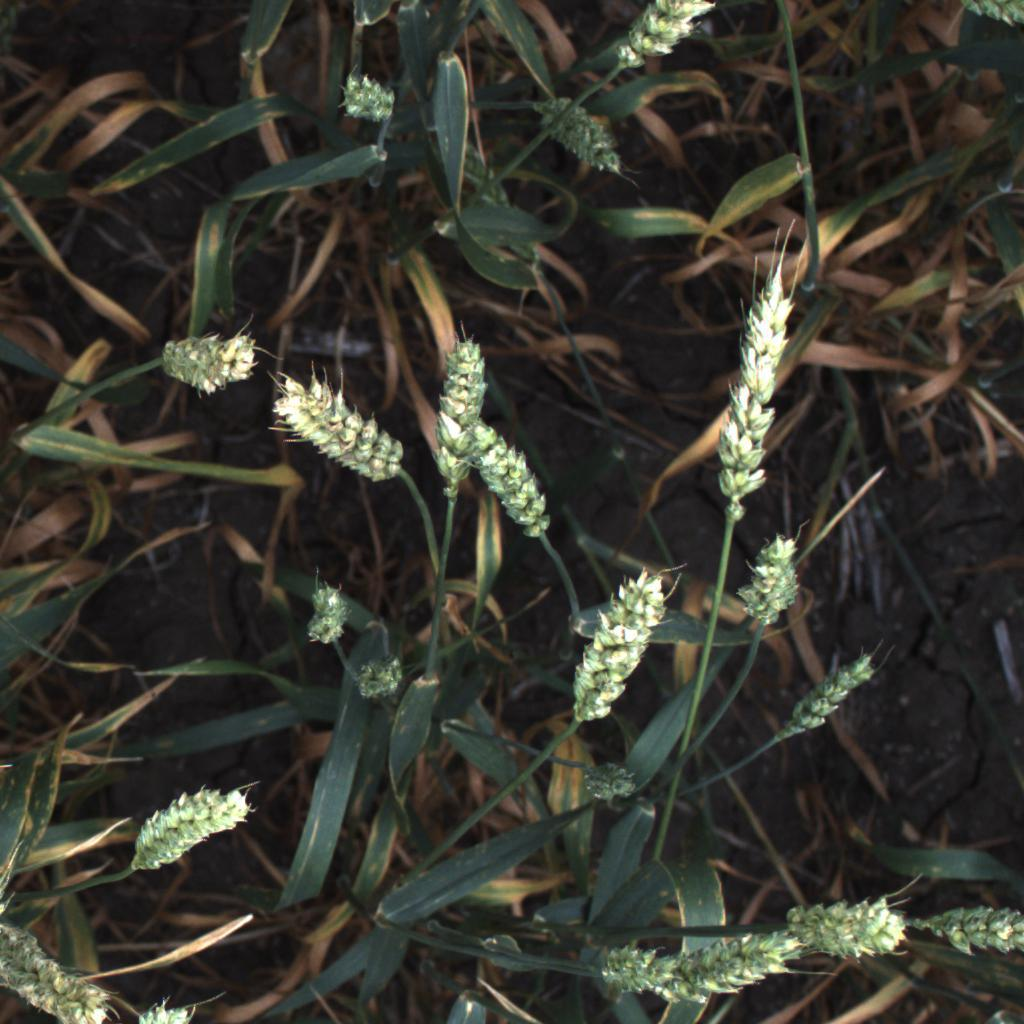0-0: (704, 259, 810, 508), (555, 559, 665, 729), (273, 365, 408, 484), (778, 865, 918, 975), (117, 771, 256, 876), (0, 914, 130, 1024), (457, 402, 554, 544), (421, 333, 498, 498), (774, 643, 888, 748), (650, 928, 810, 999), (525, 80, 631, 180), (592, 0, 725, 74), (916, 882, 1024, 967), (151, 317, 262, 396), (734, 523, 806, 631), (587, 933, 696, 997), (331, 69, 398, 133), (291, 579, 351, 646), (577, 754, 643, 811), (353, 641, 405, 709), (126, 992, 203, 1024), (956, 0, 1024, 36), (0, 677, 2, 834)
